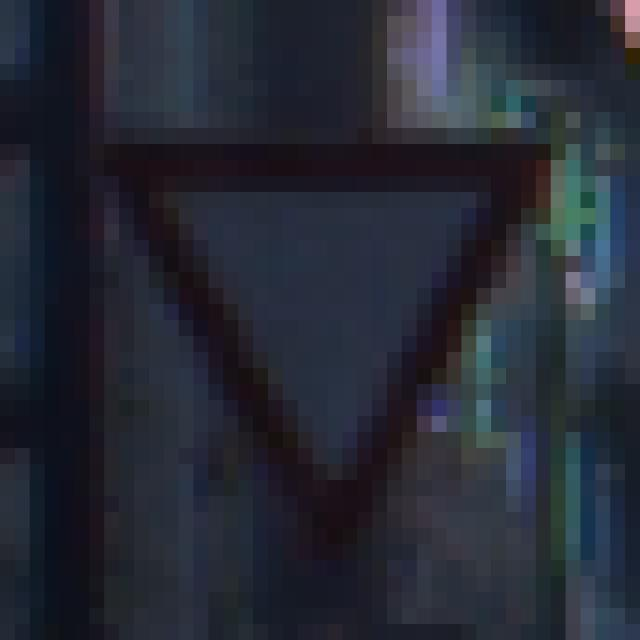Give Way: (76, 97, 567, 561)
